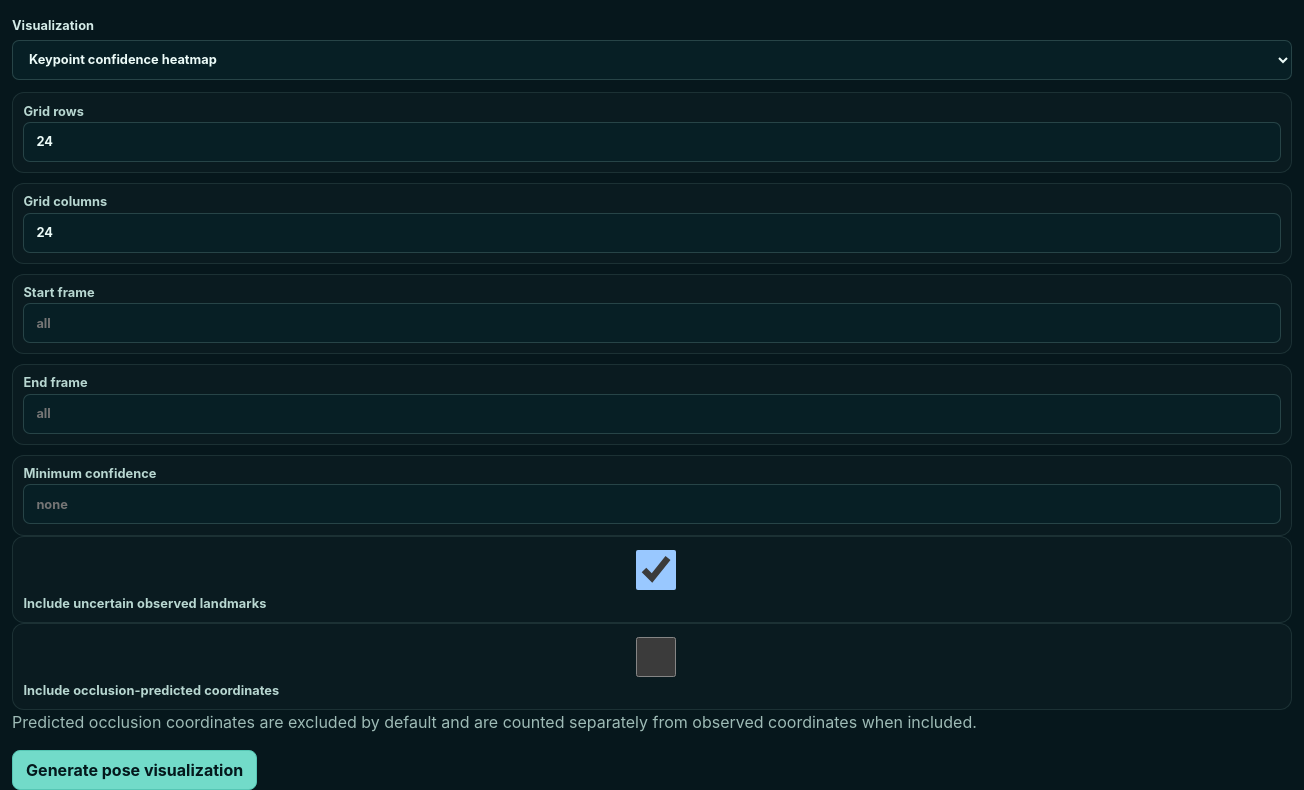
Scenario: PoseVisualizationPanel › surfaces stale temporal identity state instead of drawing trajectories
(page scrolled)
Click the button "Generate pose visualization" at (135, 770), box 12,750 -> 257,789
(page scrolled)
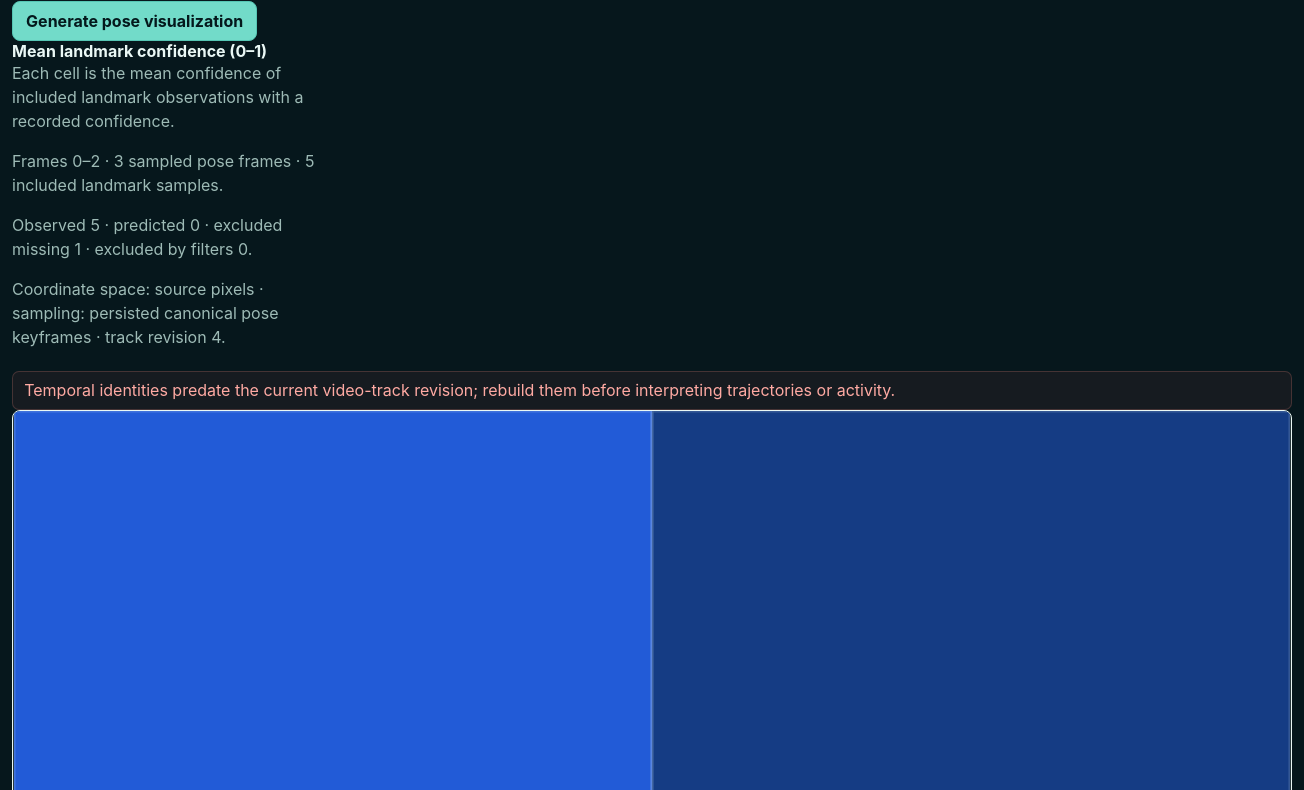
Now the message shows "rebuild them before interpreting trajectories", box 24,380 -> 895,400
